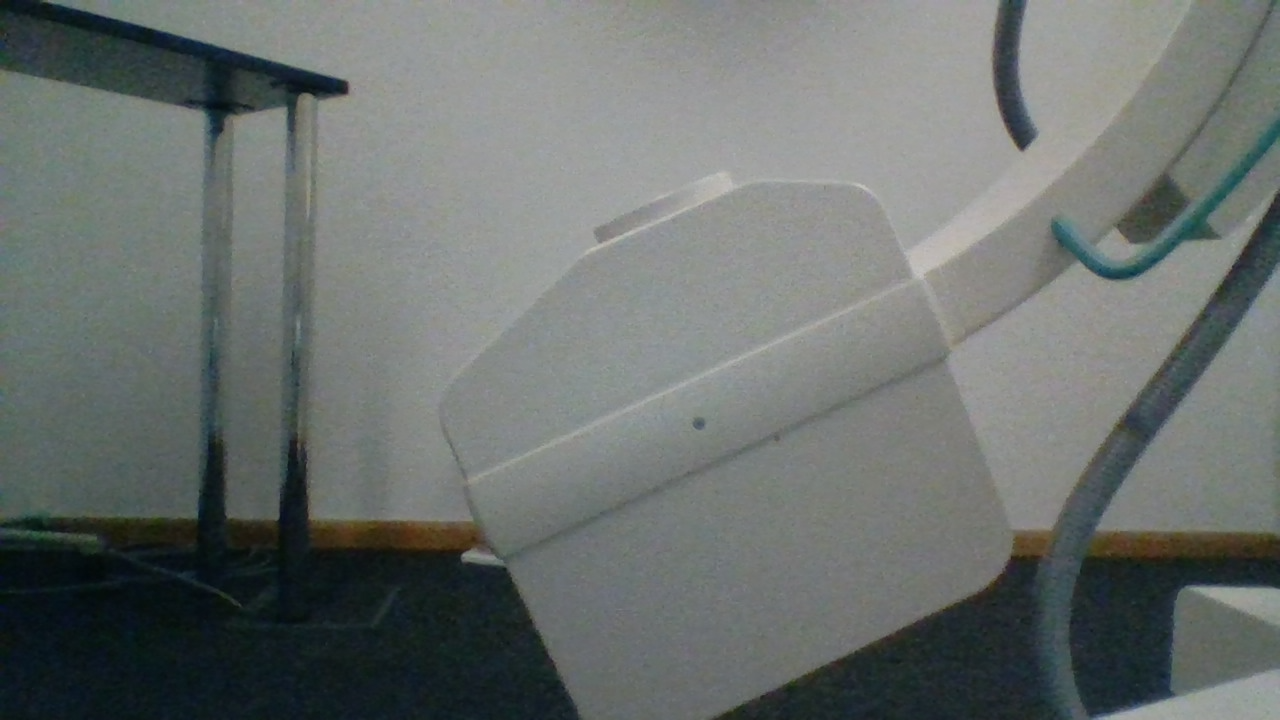carmDOWN: (433, 167, 930, 484)
